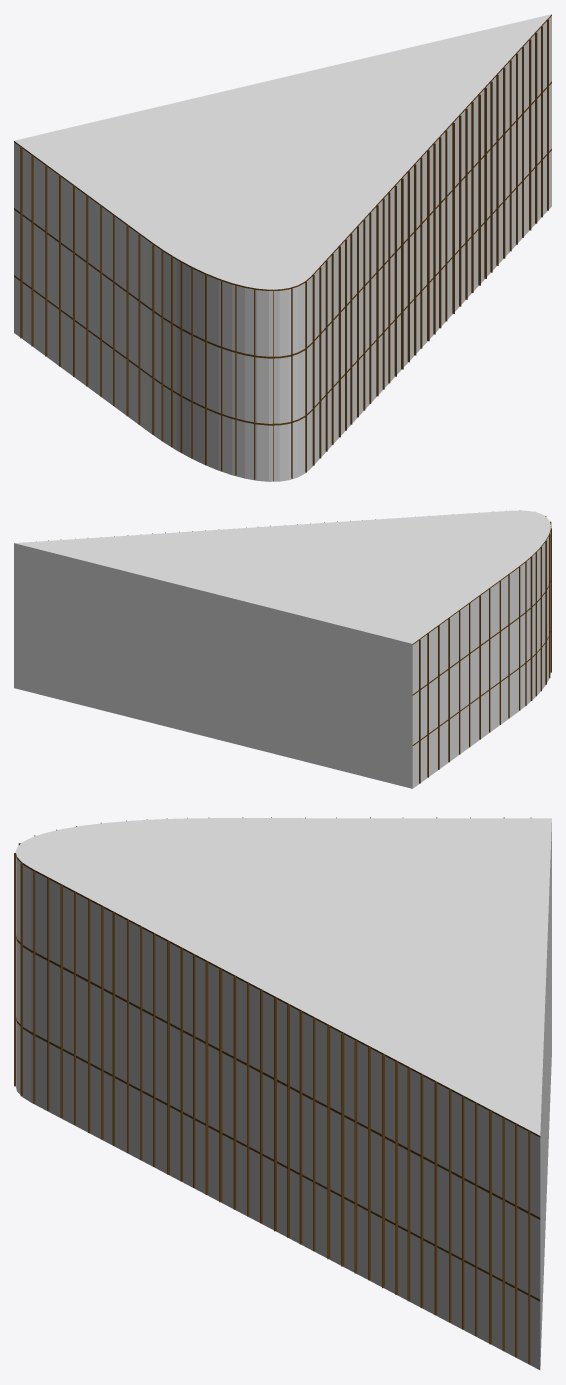
3 views of the same model, one above another, from view 1: azimuth 30°, elevation 25°; view 2: azimuth 150°, elevation 25°; view 3: azimuth 270°, elevation 25° (orthographic). The views are drawn at different scales.
Visible parts, largest first — view 1: Cube.414; view 2: Cube.414; view 3: Cube.414.
Part boxes in pixels (bbox=[...]): Cube.414: bbox=[14, 14, 551, 481]; Cube.414: bbox=[14, 510, 551, 788]; Cube.414: bbox=[14, 817, 551, 1369].
Size of the model in its own units: 2625 by 901 by 1872.
